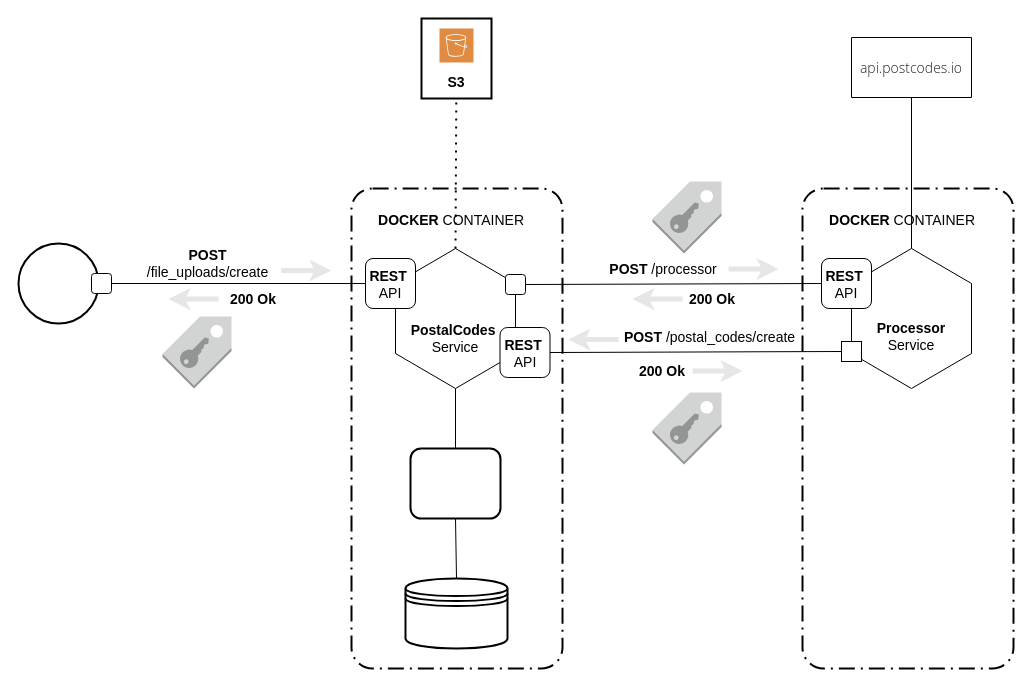
The diagram is 1031 pixels wide and 686 high, and some of its shapes have lost their labels. The centre of each missing label's shape, as x and y in pixels:
API Client: point 58,283
DATABASE ADAPTER: point 455,483
